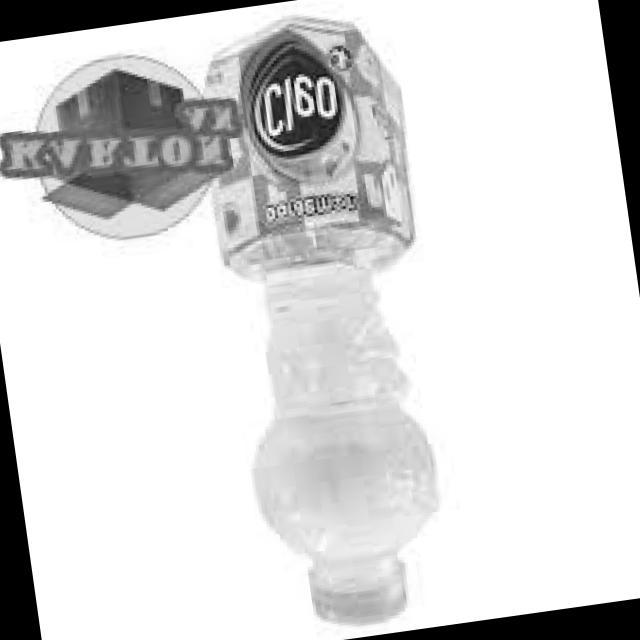good: (154, 0, 500, 640)
